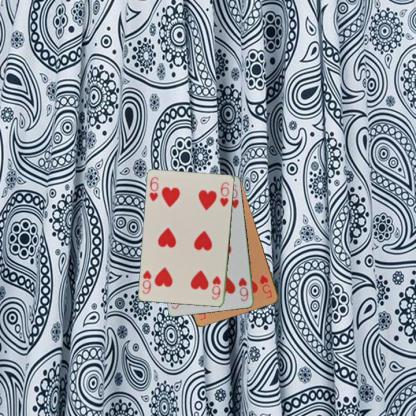5h: (257, 272, 273, 300)
6h: (235, 275, 250, 303), (209, 274, 223, 300), (147, 174, 159, 203)
